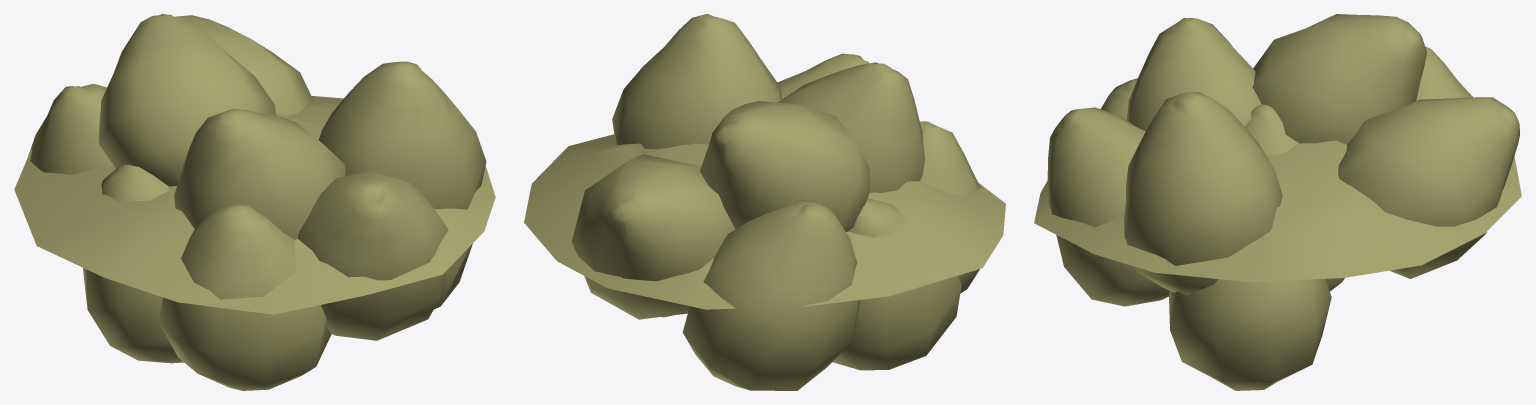
File: Barrel_Vegetable_01A_Lod0.fbx
3 views of the same model, side by side, from view 1: azimuth 30°, elevation 25°; view 2: azimuth 150°, elevation 25°; view 3: azimuth 270°, elevation 25° (orthographic).
Visible parts, largest first — view 1: Barrel_Vegetable_01A_Lod0; view 2: Barrel_Vegetable_01A_Lod0; view 3: Barrel_Vegetable_01A_Lod0.
Boxes of the visible parts, x1,y1,x2,y2 form: Barrel_Vegetable_01A_Lod0: (14, 14, 495, 390); Barrel_Vegetable_01A_Lod0: (524, 14, 1005, 390); Barrel_Vegetable_01A_Lod0: (1034, 14, 1521, 390).
Bounding box in the file's own units: 42.77 × 26.98 × 42.15.
